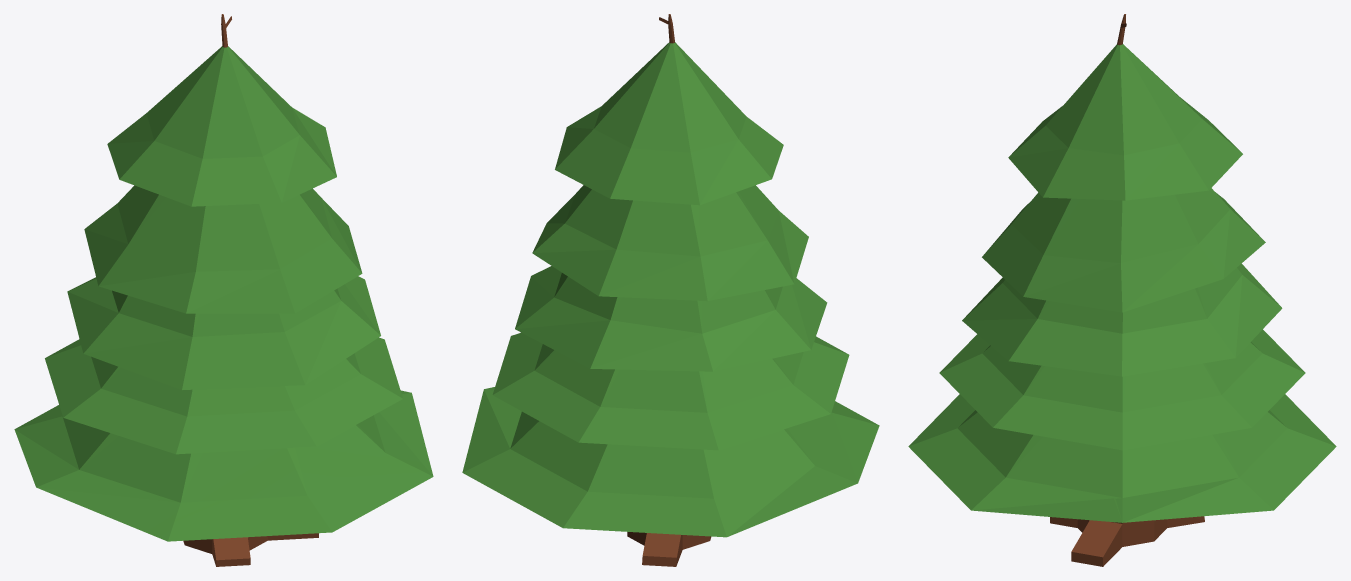
File: Ptree3.fbx
The picture shows the model from 3 angles, left to right: view 1: azimuth 30°, elevation 25°; view 2: azimuth 150°, elevation 25°; view 3: azimuth 270°, elevation 25°; orthographic projection.
Parts seen in each view (by area): view 1: pCylinder2; view 2: pCylinder2; view 3: pCylinder2.
Boxes of the visible parts, bbox=[...] form: pCylinder2: bbox=[14, 14, 433, 566]; pCylinder2: bbox=[462, 14, 879, 566]; pCylinder2: bbox=[908, 14, 1336, 566].
Size of the model in its own units: 4.78 by 6.33 by 4.78.
Materials: 1 (1 with a texture image).
